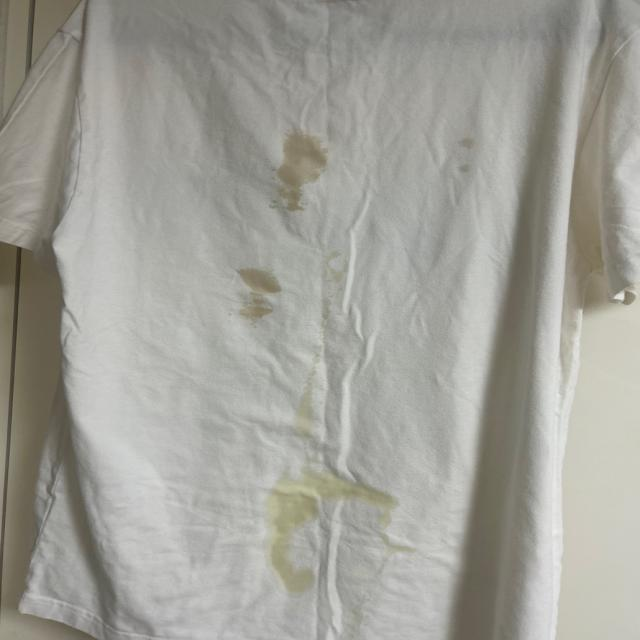stain: (267, 464, 403, 517), (268, 130, 326, 232), (265, 509, 324, 596), (237, 266, 296, 331), (294, 357, 324, 441), (309, 251, 353, 299), (444, 138, 480, 173)
